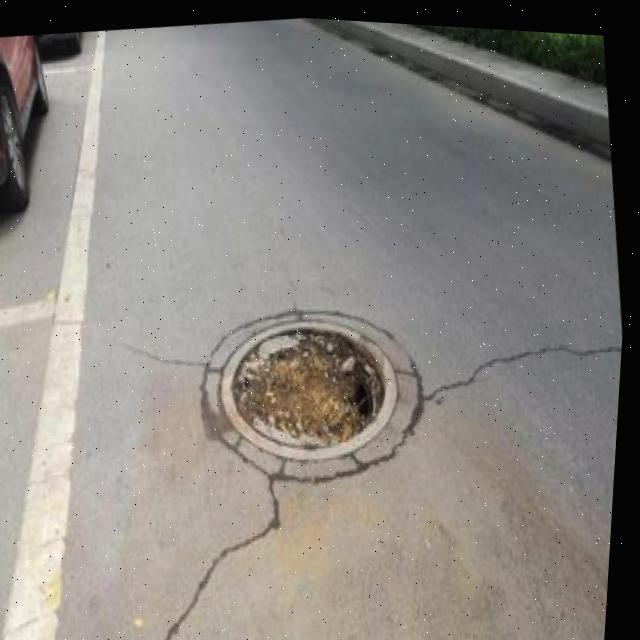manhole: (202, 289, 417, 470)
